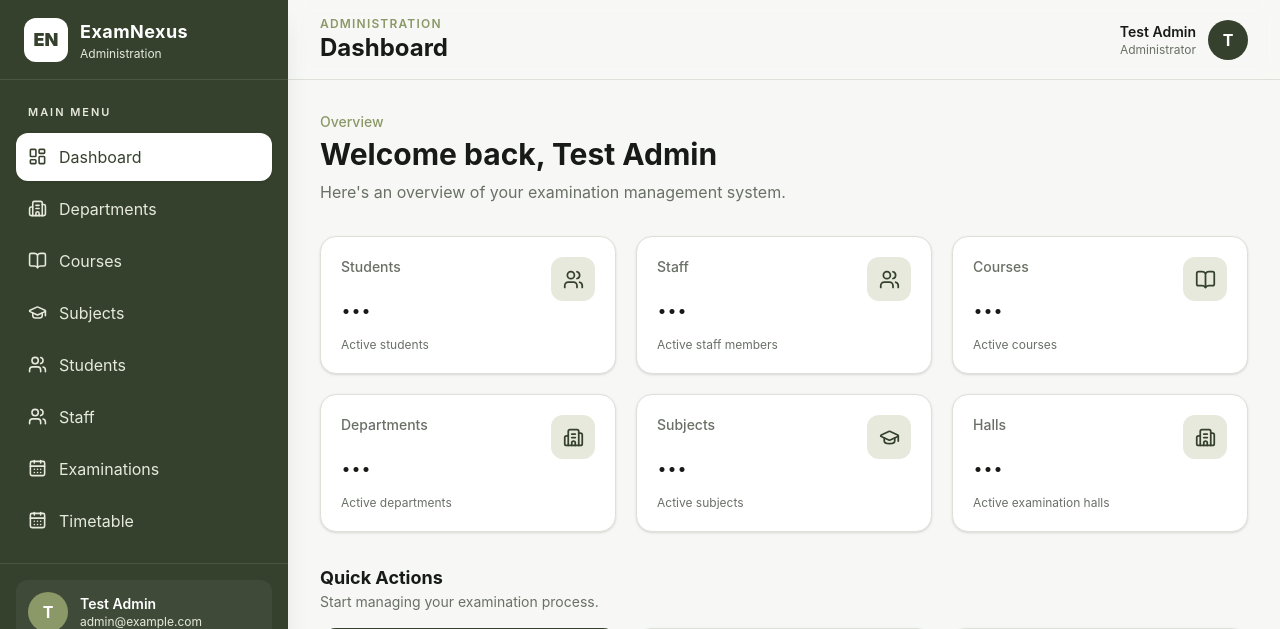
it: Phase 3 — Data states › STA-04: backend error shows the error banner with Retry
Expected: the heading "Dashboard" is shown, [320,32,448,64]
Click the button "Departments". click: (144, 208)
box: [16,184,272,232]
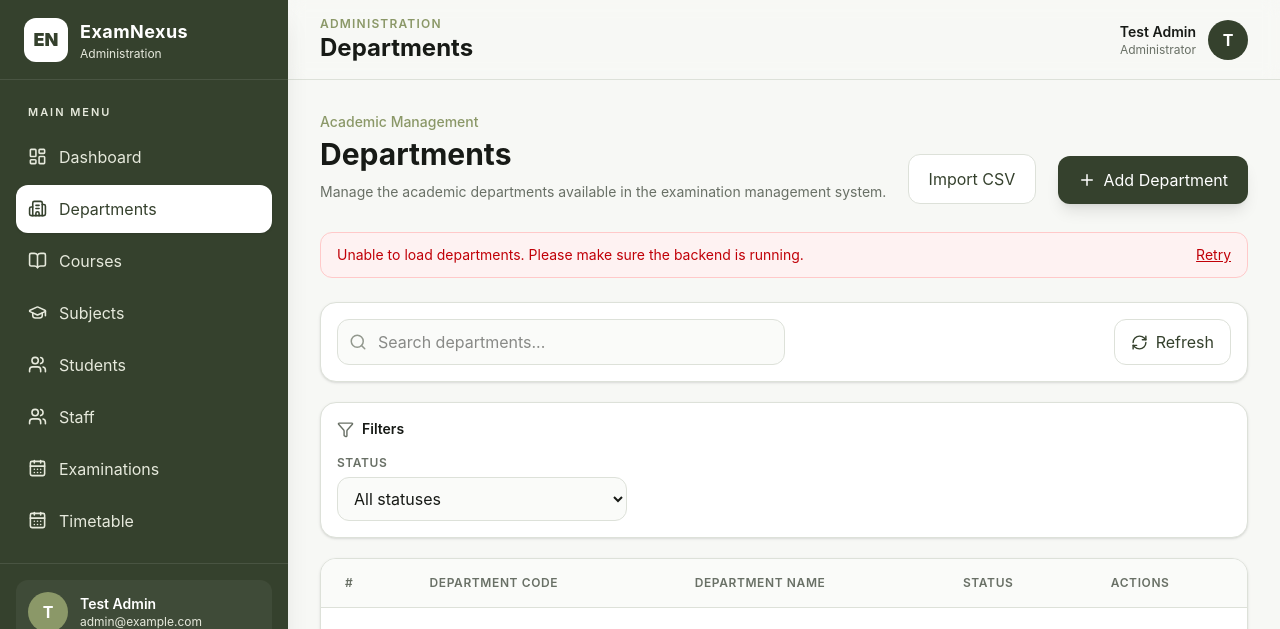
Now the text "Unable to load departments" is shown, box [337,246,804,263]
Now the button "Retry" is shown, box [1196,245,1231,265]
